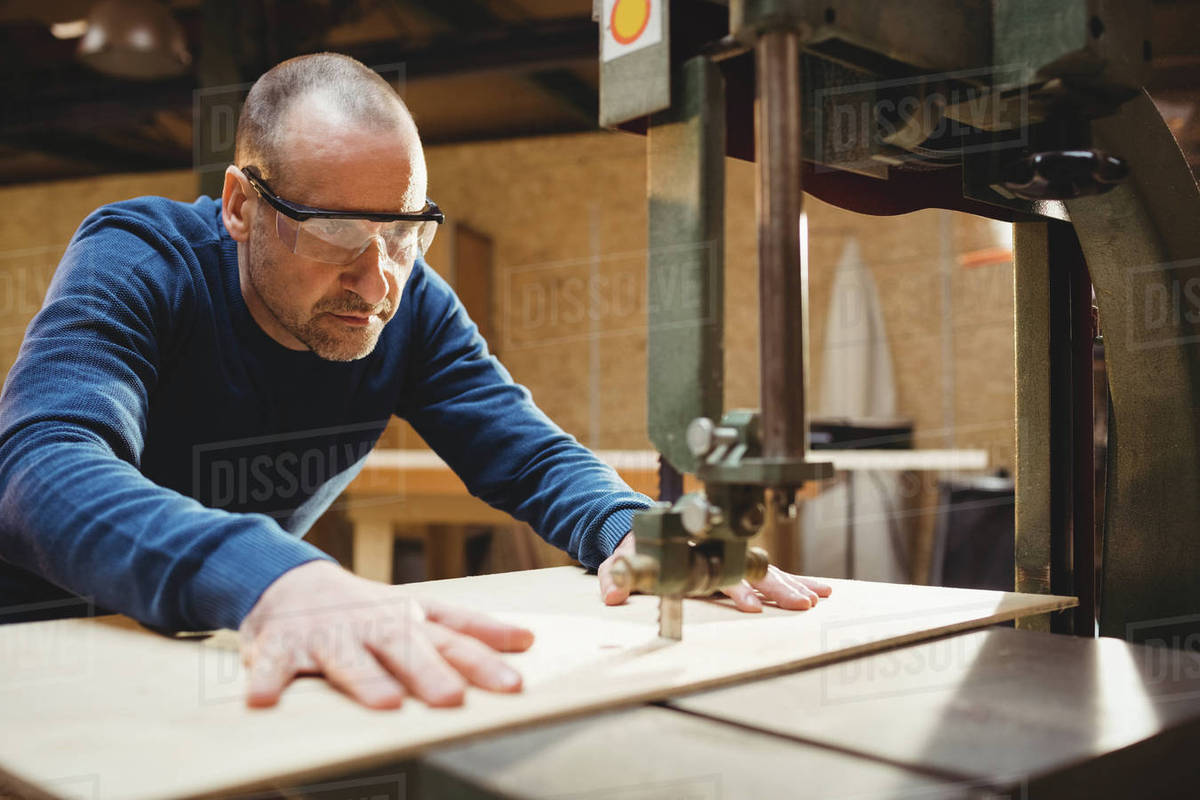noepi: (13, 43, 864, 715)
